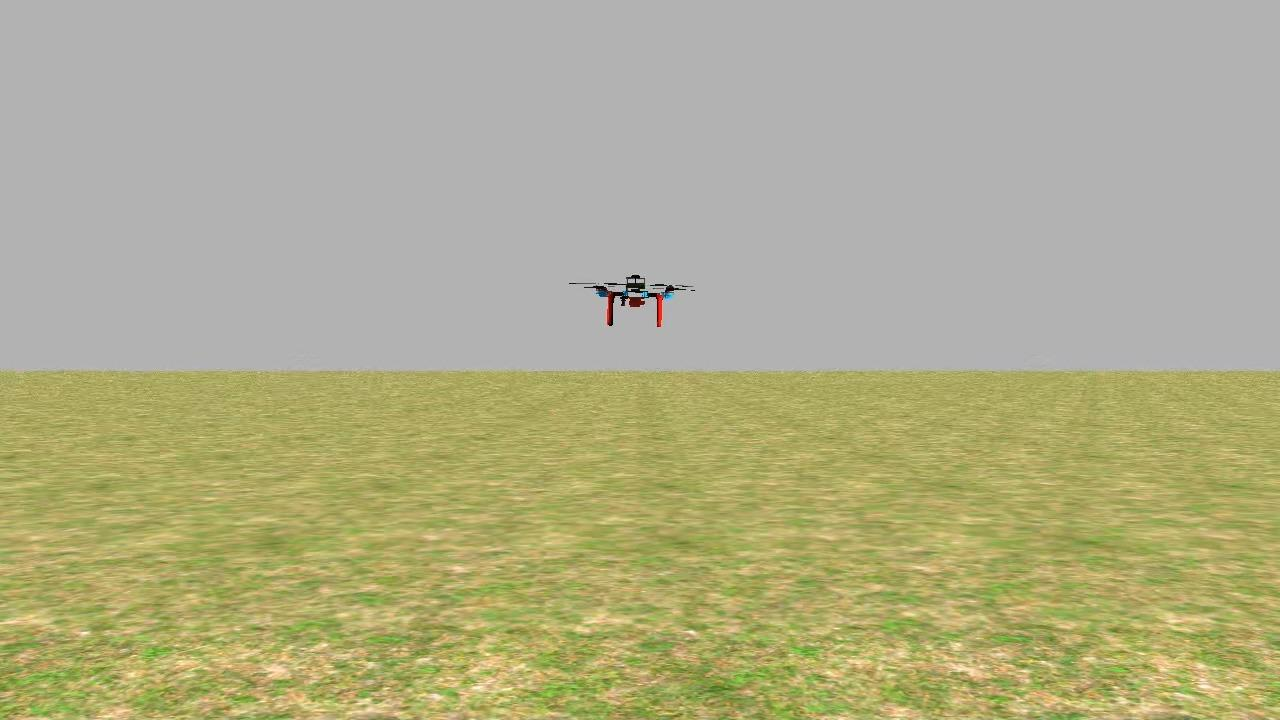UAV: (586, 264, 680, 334)
